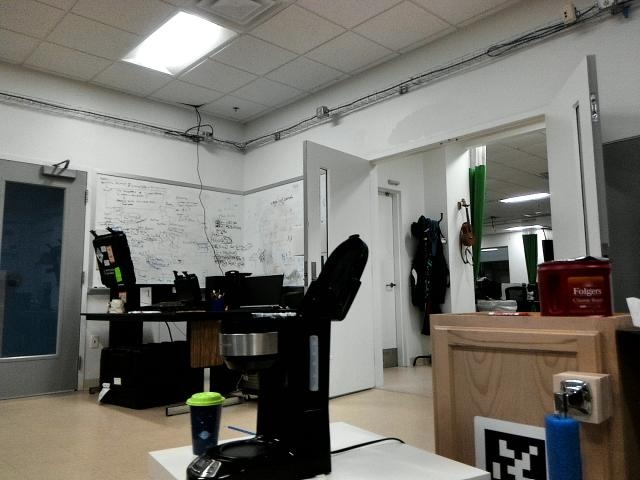noodle_handle: (540, 408, 589, 480)
useless_cup: (186, 389, 225, 452)
